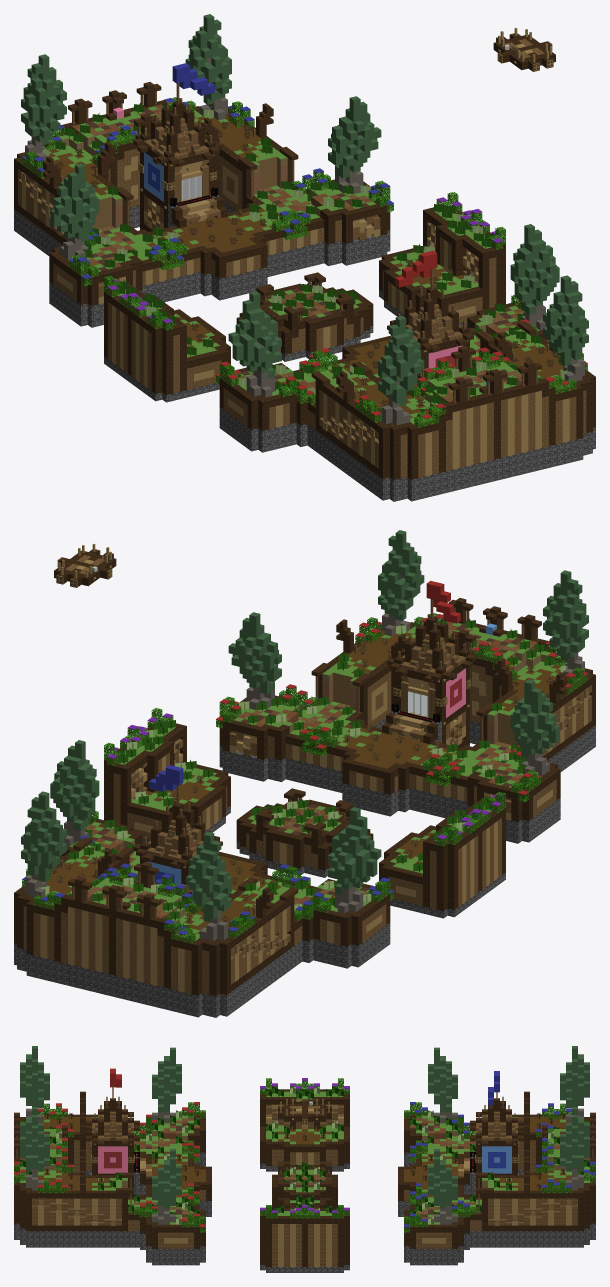
Rendered from minecraft.obj.
3 views of the same model, one above another, from view 1: azimuth 30°, elevation 25°; view 2: azimuth 150°, elevation 25°; view 3: azimuth 270°, elevation 25° (orthographic). The views are drawn at different scales.
Bounding box in the file's own units: 61.19 × 34.08 × 97.
